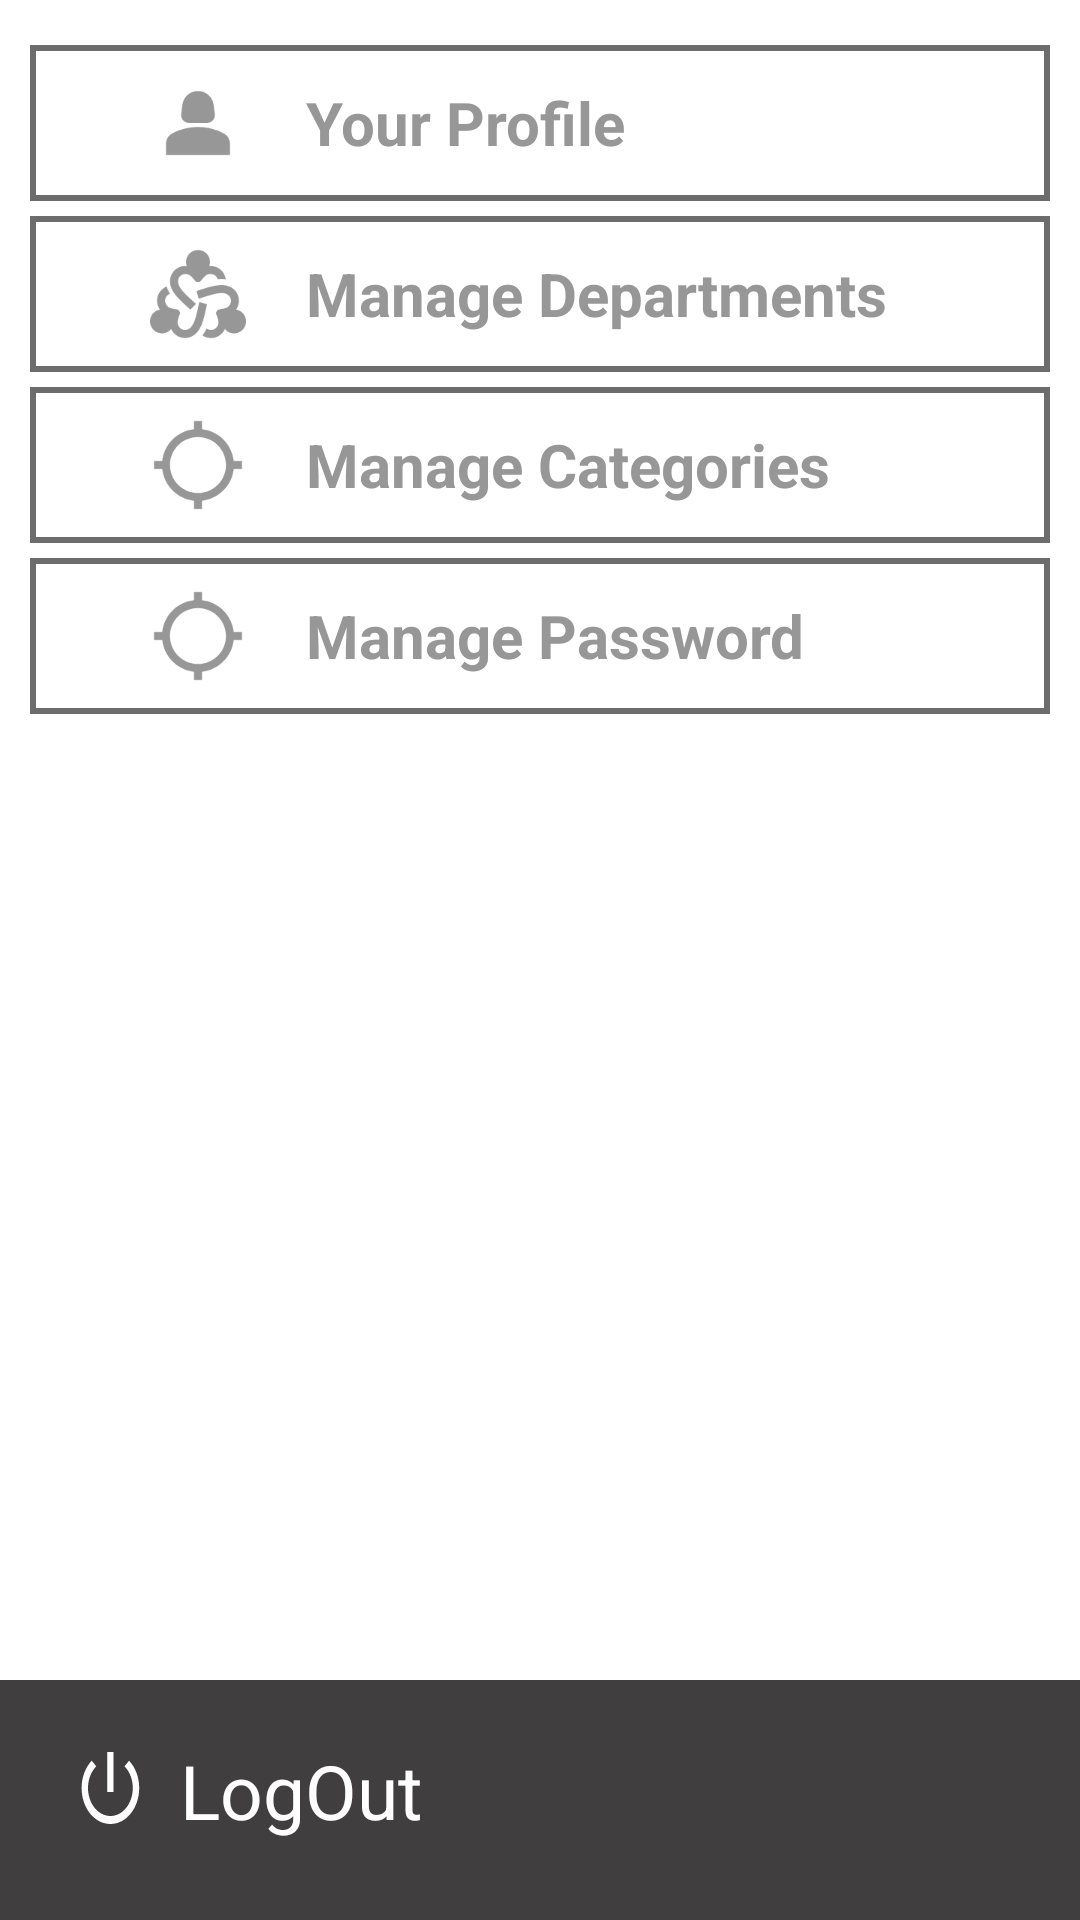

Where icons sit on this 1080 x 1920 app screen, as (x1, y1, x2, y2):
person: (166, 91, 230, 155)
power settings: (81, 1752, 140, 1824)
